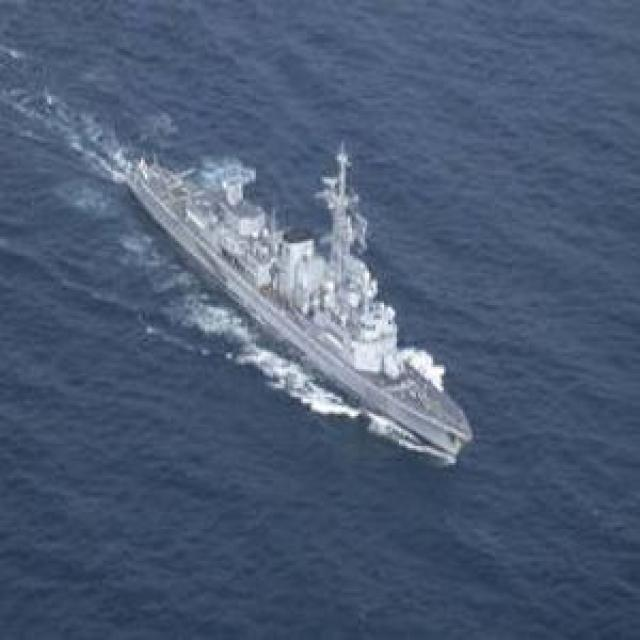navalvessels: (118, 140, 476, 466)
